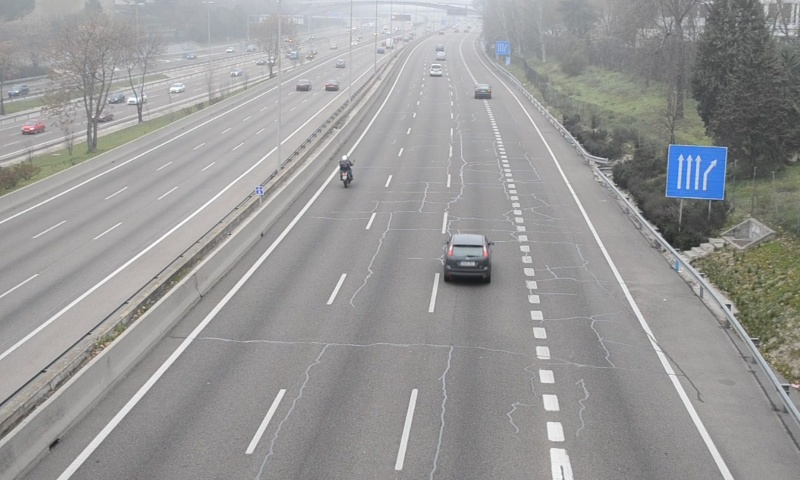car: (442, 234, 494, 286), (474, 84, 490, 99), (430, 64, 442, 77)
motorcycle: (336, 156, 354, 191)
